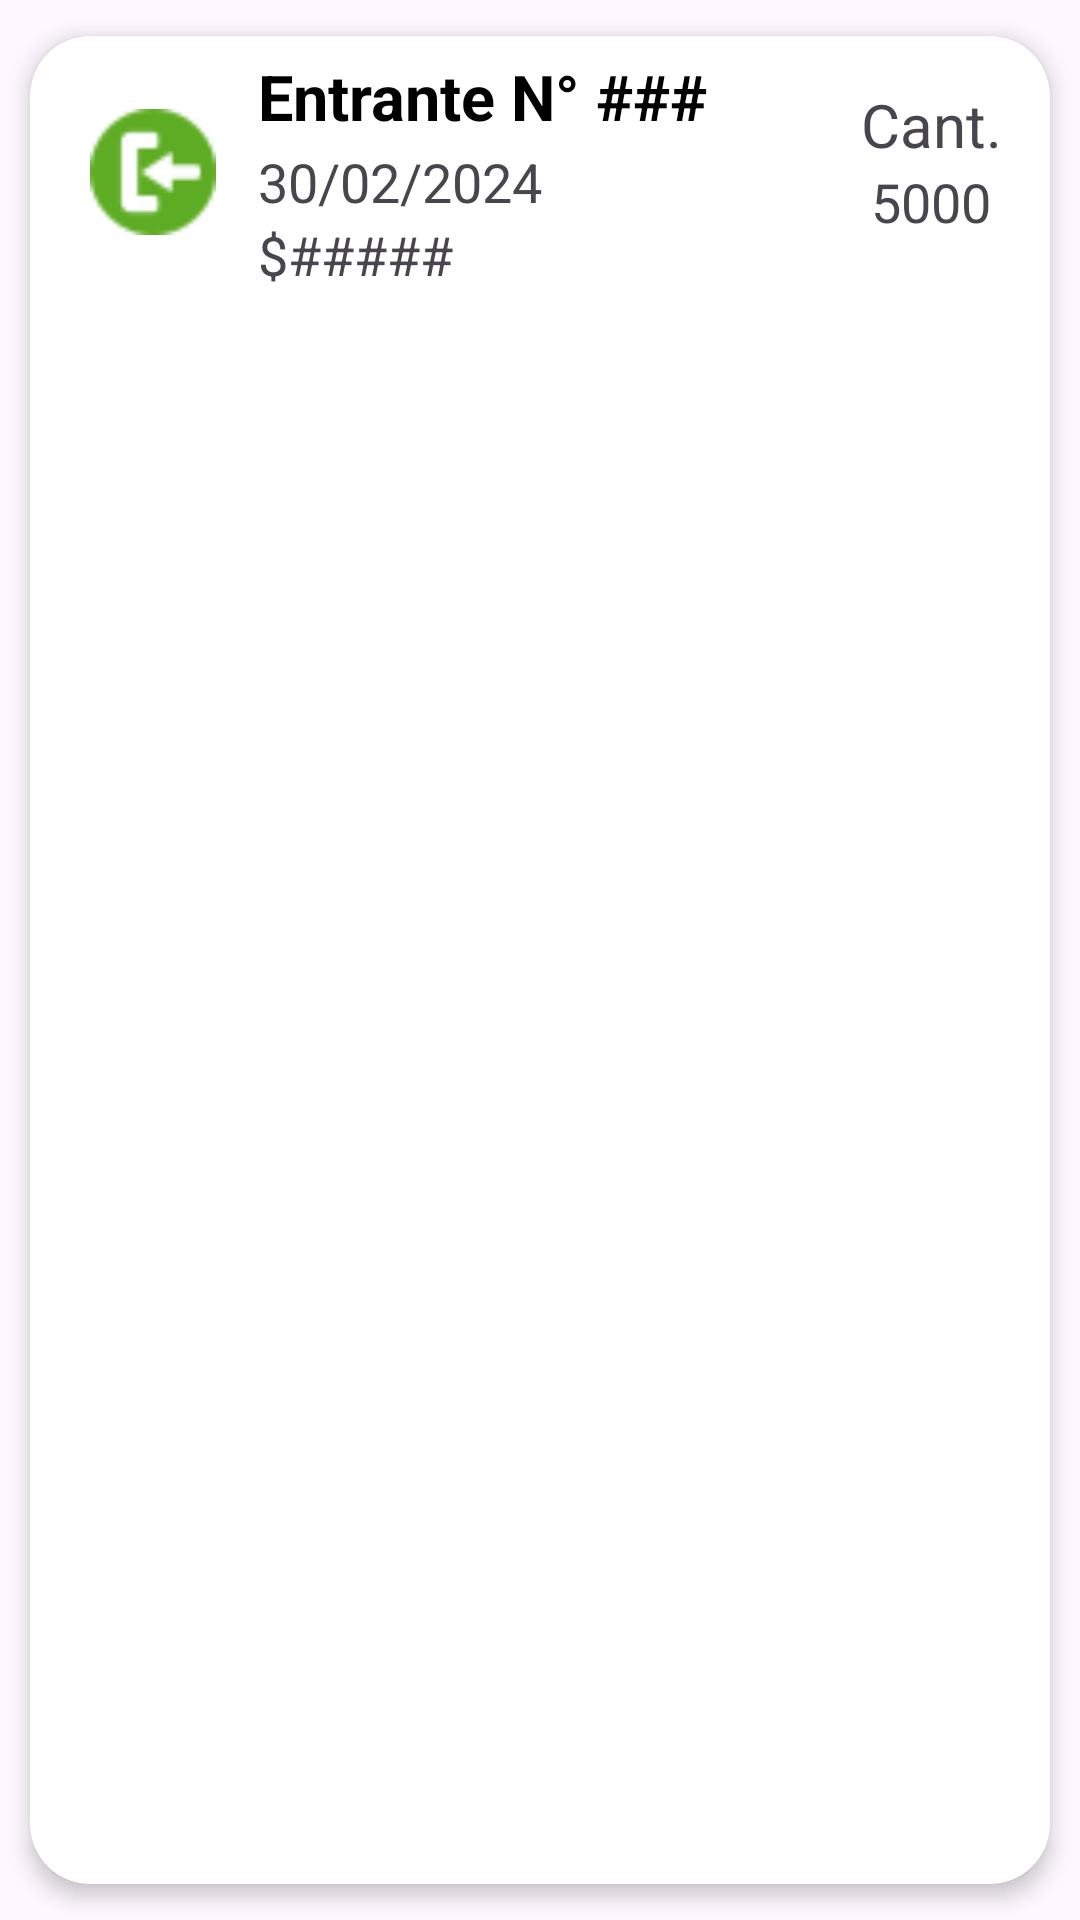

Point at icon controls on the screen. Image size 1080 x 1920, points as (x,y).
entrada: (153,172)
